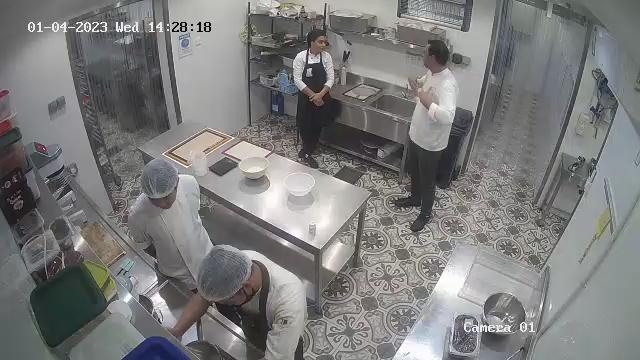apron: (239, 262, 304, 360), (298, 52, 330, 126)
no_apron: (133, 178, 214, 293), (407, 70, 459, 152)
